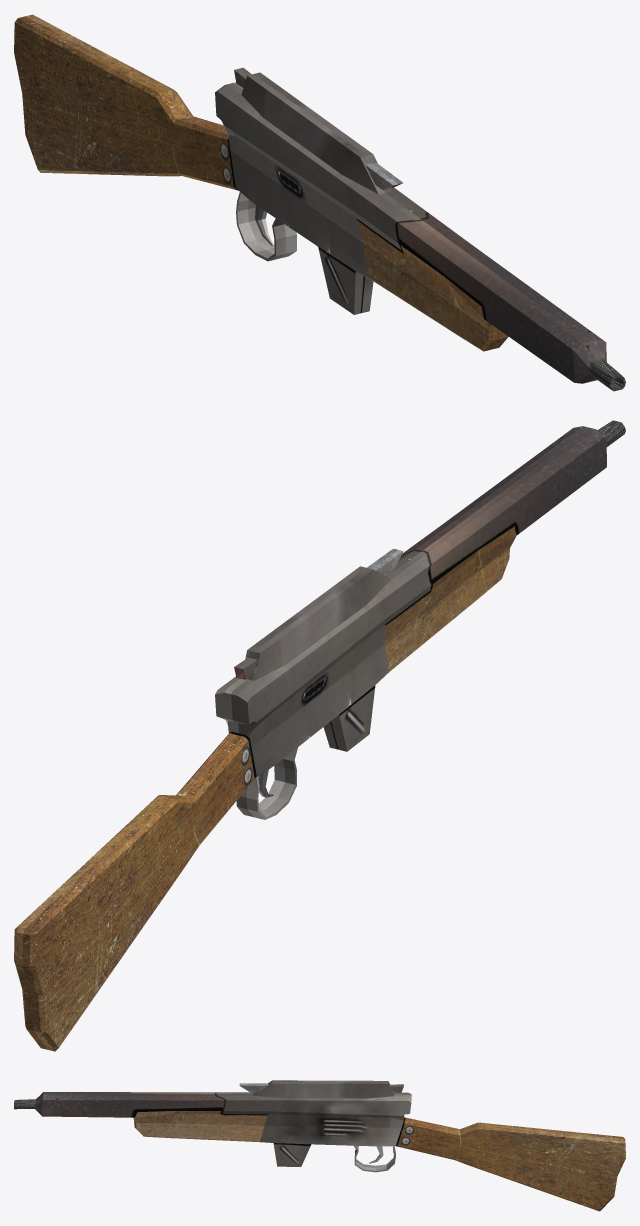
The model's file is Carbine 0.1.fbx.
The picture shows the model from 3 angles, top to bottom: view 1: azimuth 30°, elevation 25°; view 2: azimuth 150°, elevation 25°; view 3: azimuth 270°, elevation 25°; orthographic projection. The views are drawn at different scales.
Visible parts, largest first — view 1: Carbine; view 2: Carbine; view 3: Carbine.
Boxes of the visible parts, <box> form: Carbine: <box>14,14,625,391</box>; Carbine: <box>14,420,625,1051</box>; Carbine: <box>14,1080,625,1211</box>.
Bounding box in the file's own units: 24.19 × 175 × 761.
1 material, 1 textured.
